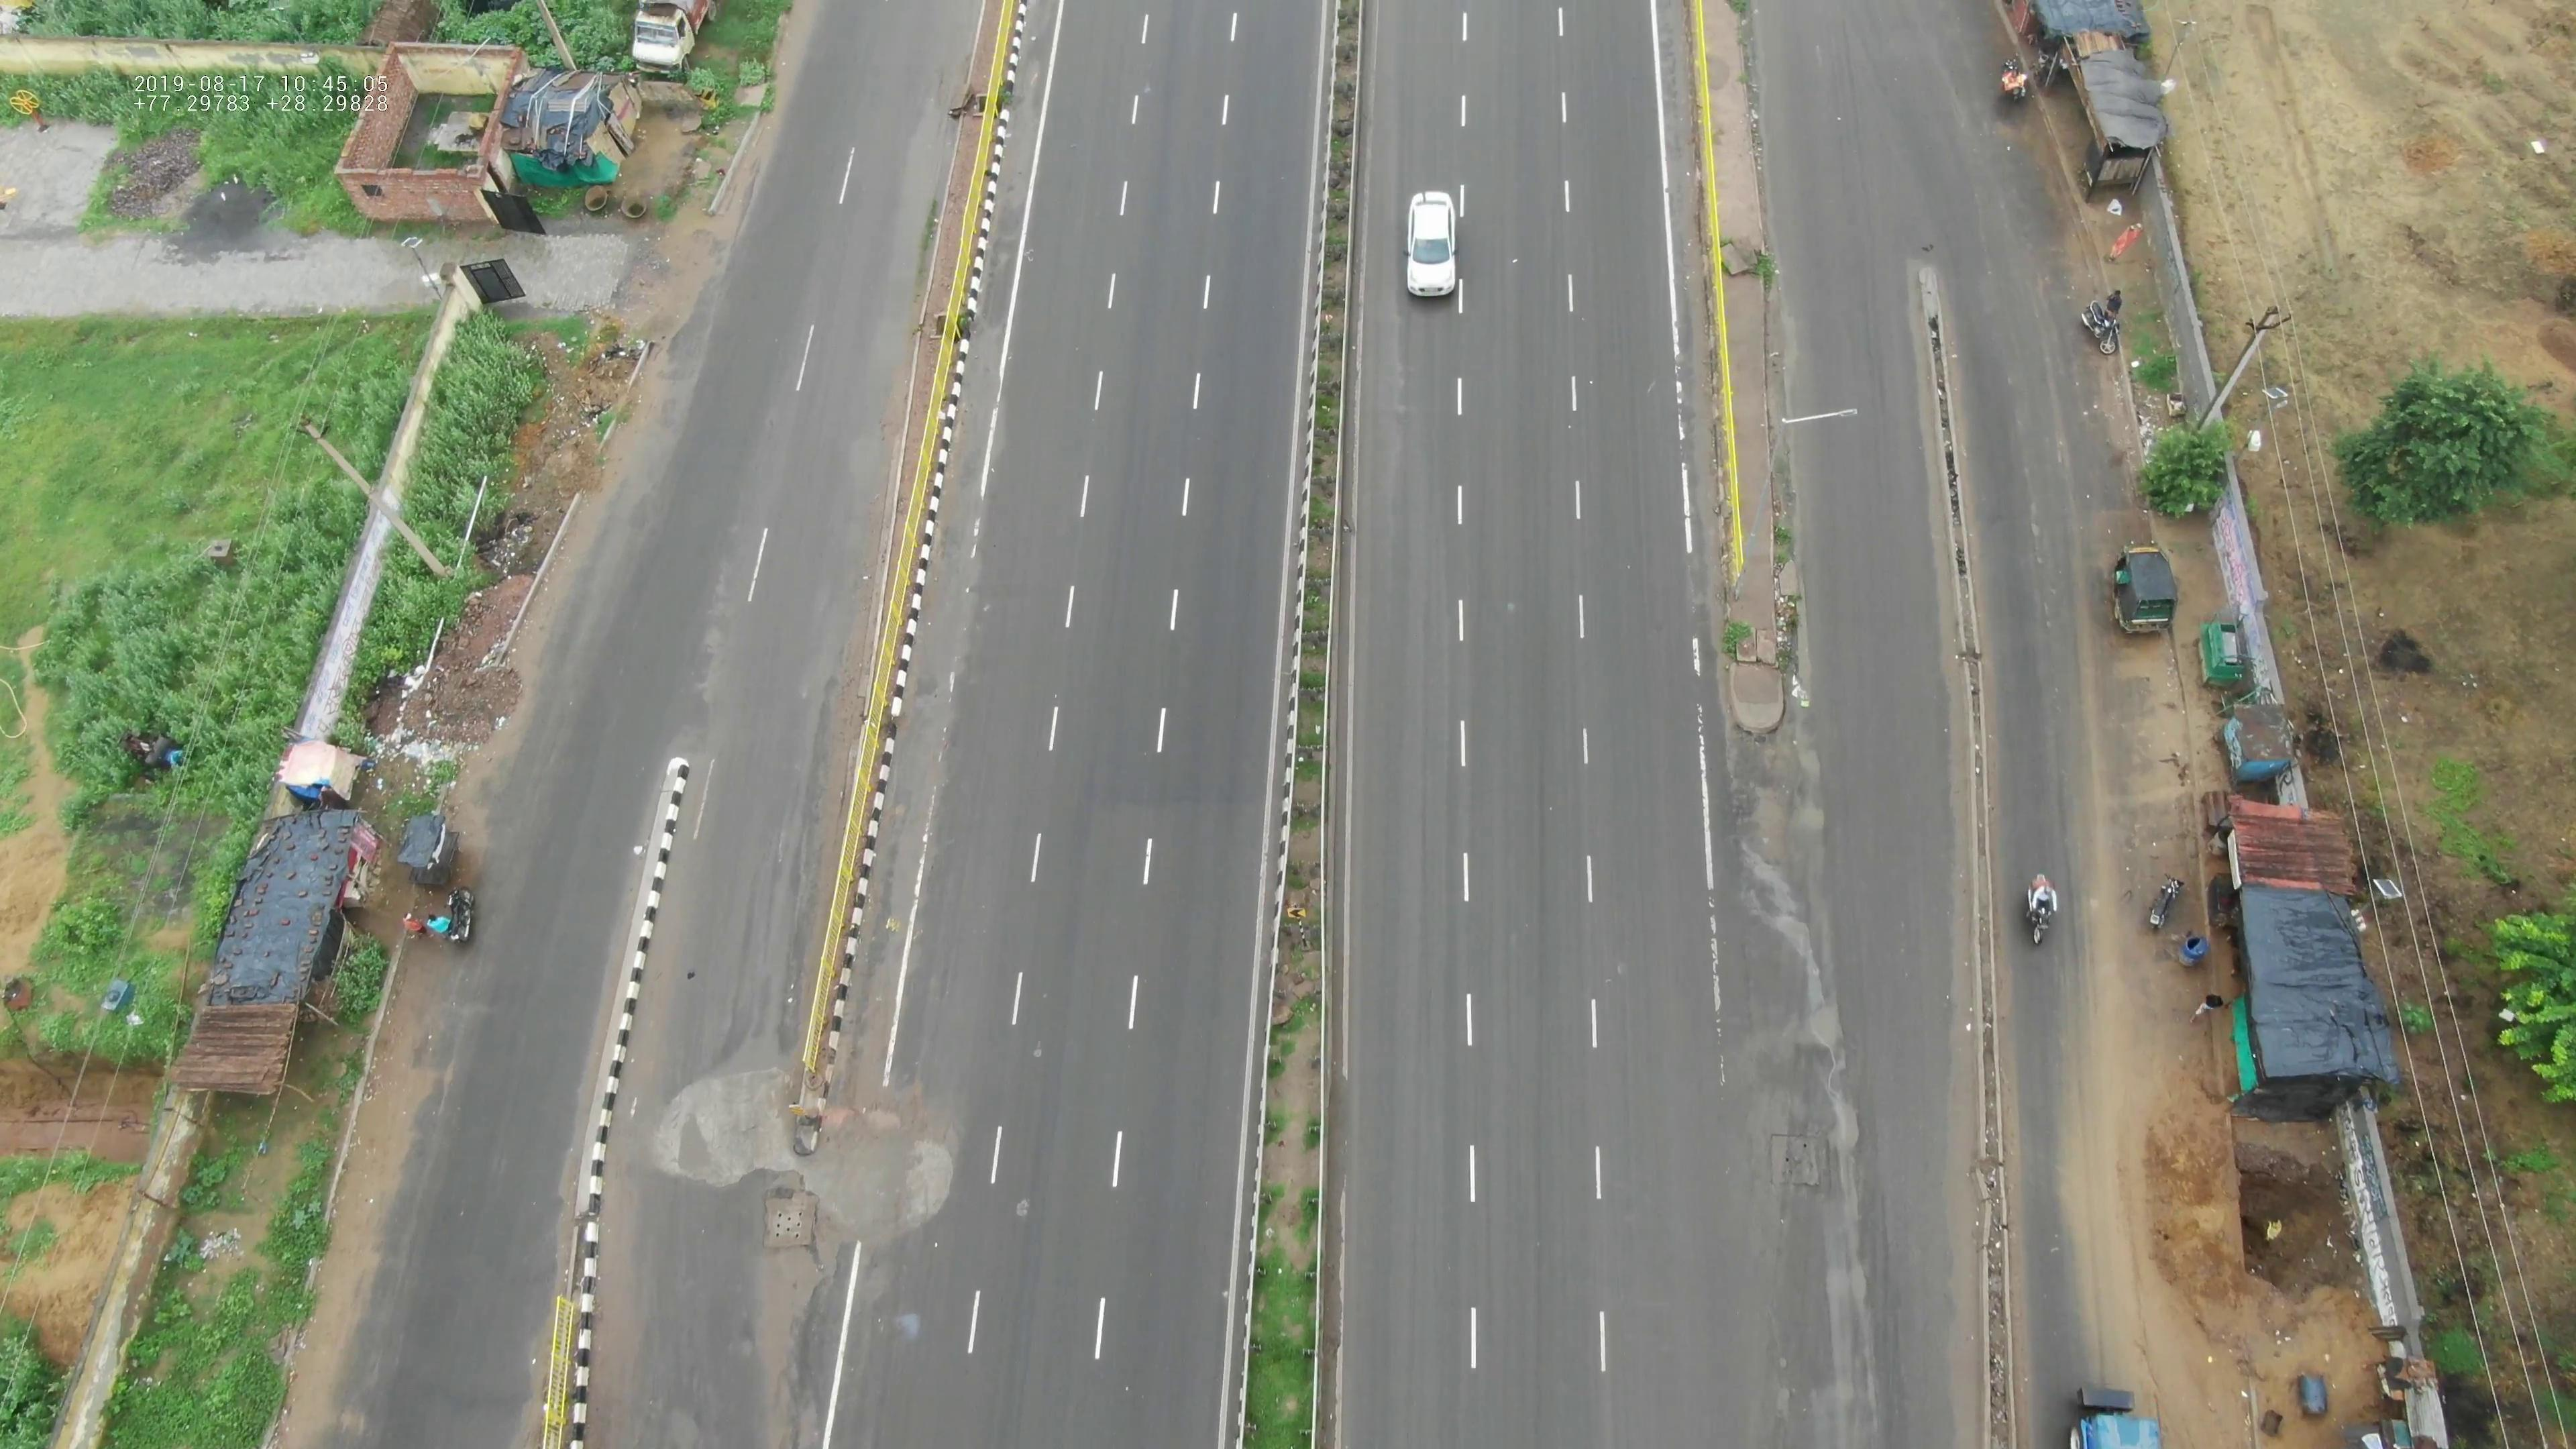Hair_cracks: (1716, 761, 1874, 1226)
Muddy_road: (2104, 1100, 2250, 1382)
Potholes: (658, 1054, 955, 1348)
